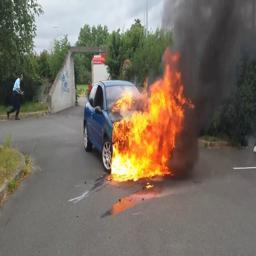fire: (111, 47, 196, 179)
